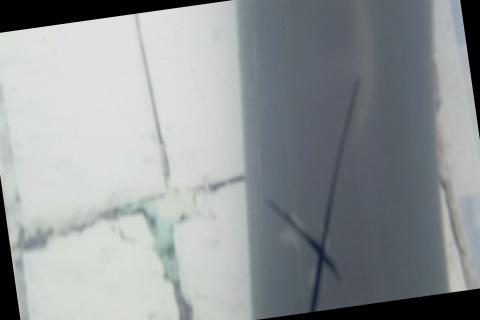keretakan: (249, 74, 392, 315)
